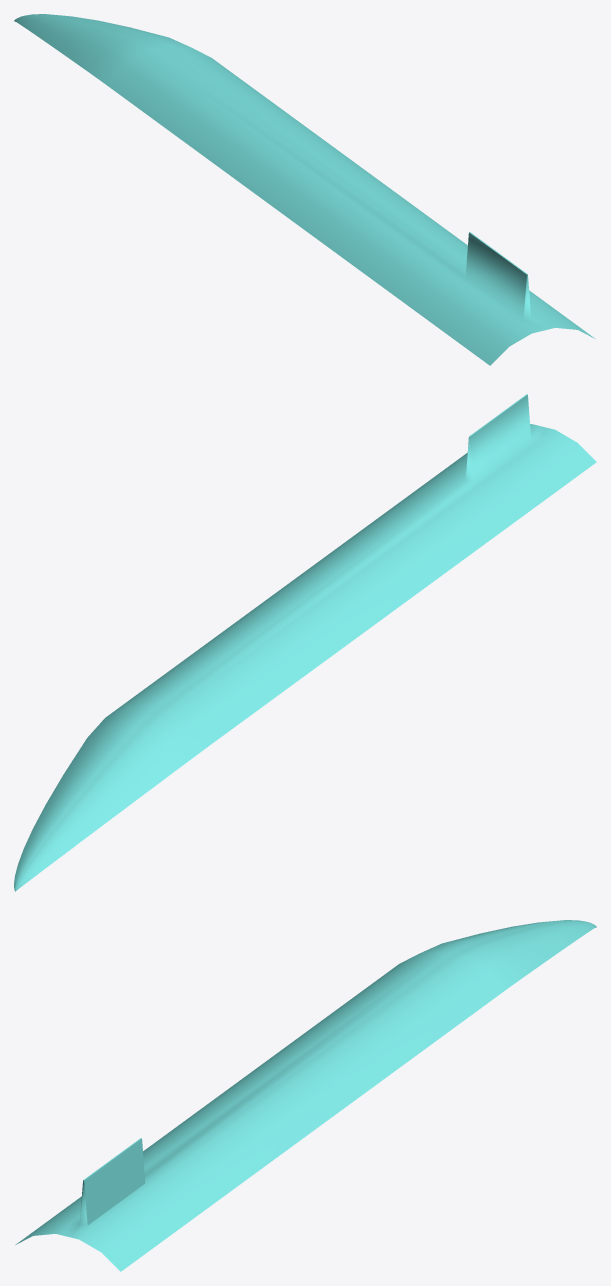
Rendered from rocket.gltf.
The picture shows the model from 3 angles, top to bottom: view 1: azimuth 30°, elevation 25°; view 2: azimuth 150°, elevation 25°; view 3: azimuth 330°, elevation 25°; orthographic projection.
Parts seen in each view (by area): view 1: Cylinder; view 2: Cylinder; view 3: Cylinder.
Part boxes in pixels (box(x1,y1,x2,y2)): Cylinder: box(14, 14, 595, 365); Cylinder: box(14, 394, 596, 891); Cylinder: box(15, 920, 596, 1271).
Size of the model in its own units: 0.6095 by 0.6676 by 5.22.
